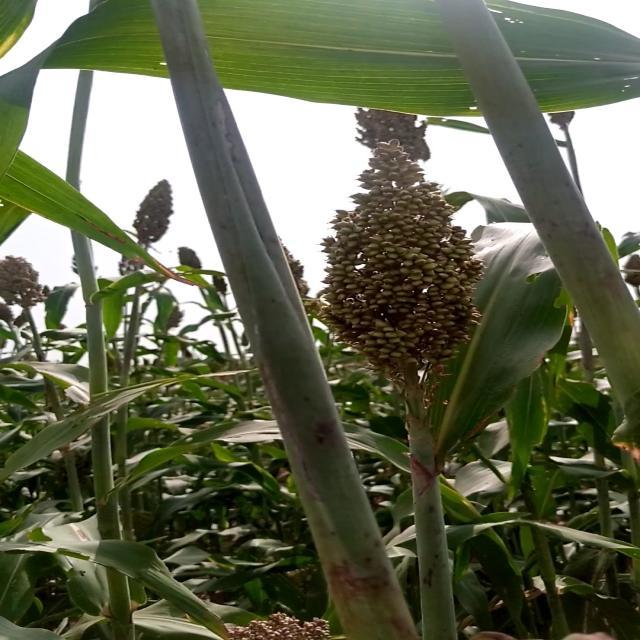UnripeSorghum: (293, 132, 513, 382)
